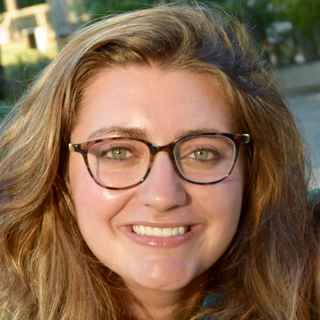eye: (183, 143, 226, 166), (94, 143, 141, 164)
